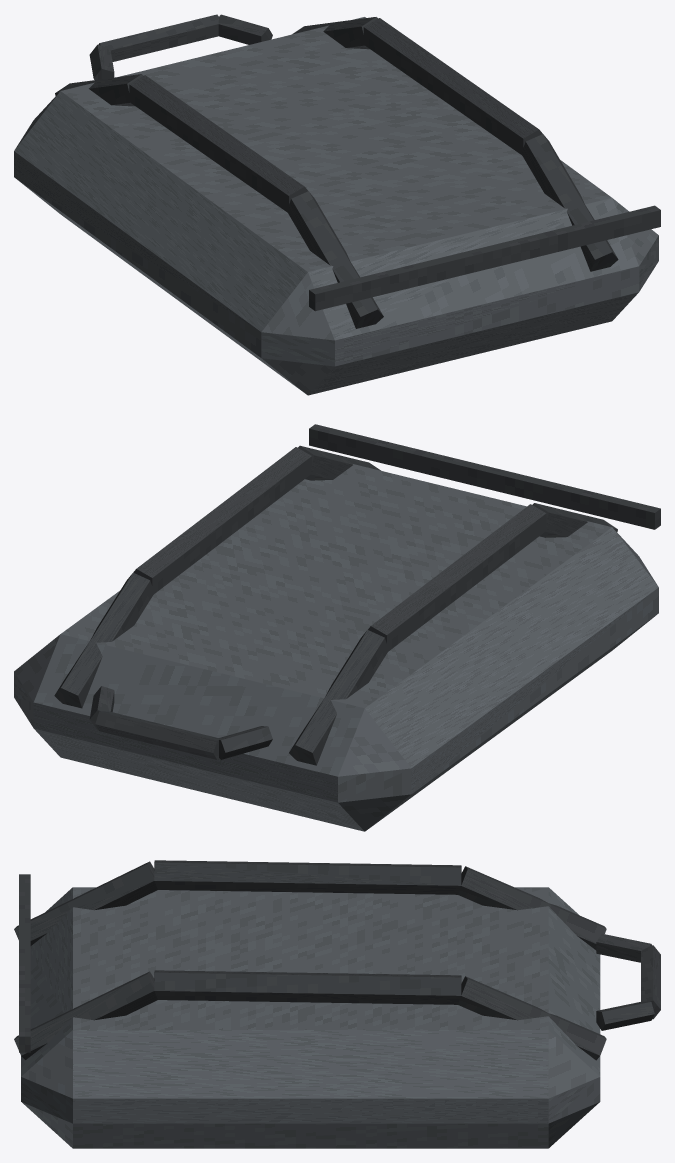
File: leg_small_bag.glb
The picture shows the model from 3 angles, top to bottom: view 1: azimuth 30°, elevation 25°; view 2: azimuth 150°, elevation 25°; view 3: azimuth 270°, elevation 25°; orthographic projection. The views are drawn at different scales.
Visible parts, largest first — view 1: block_bag shell, block_webbing strap 1 (×2), block_zipper, block_webbing strap 2 (×2), block_carry handle 1, block_webbing strap 0 (×2), block_carry handle 2, block_carry handle 0; view 2: block_bag shell, block_webbing strap 1 (×2), block_zipper, block_webbing strap 0 (×2), block_carry handle 1, block_webbing strap 2 (×2), block_carry handle 0, block_carry handle 2; view 3: block_bag shell, block_webbing strap 1 (×2), block_webbing strap 0 (×2), block_webbing strap 2 (×2), block_zipper, block_carry handle 2, block_carry handle 1, block_carry handle 0.
Boxes of the visible parts, x1,y1,x2,y2 form: block_bag shell: (14, 17, 658, 395); block_webbing strap 1 (×2): (129, 18, 542, 212); block_zipper: (309, 205, 660, 311); block_webbing strap 2 (×2): (286, 134, 618, 328); block_carry handle 1: (98, 14, 218, 61); block_webbing strap 0 (×2): (55, 17, 377, 106); block_carry handle 2: (218, 14, 272, 44); block_carry handle 0: (89, 44, 114, 79); block_bag shell: (14, 464, 658, 831); block_webbing strap 1 (×2): (133, 447, 546, 651); block_zipper: (309, 424, 660, 529); block_webbing strap 0 (×2): (54, 572, 388, 765); block_carry handle 1: (95, 711, 218, 759); block_webbing strap 2 (×2): (298, 445, 617, 537); block_carry handle 0: (218, 726, 272, 759); block_carry handle 2: (89, 686, 114, 729); block_bag shell: (21, 887, 600, 1148); block_webbing strap 1 (×2): (154, 860, 461, 1004); block_webbing strap 0 (×2): (458, 866, 606, 1060); block_webbing strap 2 (×2): (14, 861, 157, 1059); block_zipper: (19, 874, 30, 1052); block_carry handle 2: (596, 1001, 654, 1030); block_carry handle 1: (641, 945, 660, 1019); block_carry handle 0: (596, 933, 651, 962).
Bounding box in the file's own units: 0.1134 × 0.0459 × 0.1663.
Materials: 1 (1 with a texture image).
